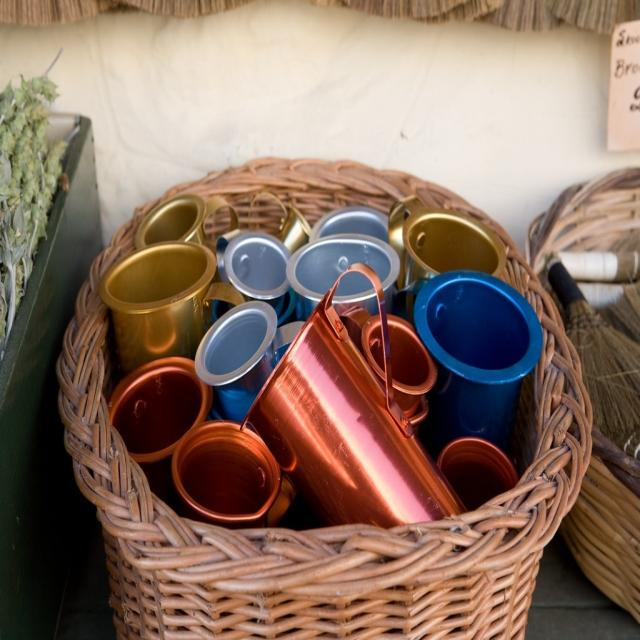can: (70, 177, 548, 561)
